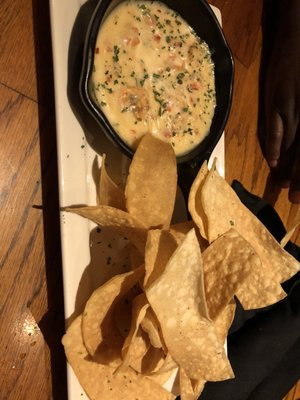sandwich: (87, 0, 217, 159)
